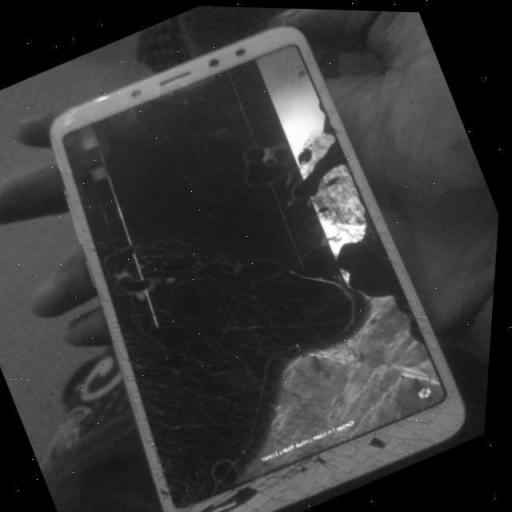phone: (55, 23, 471, 512)
